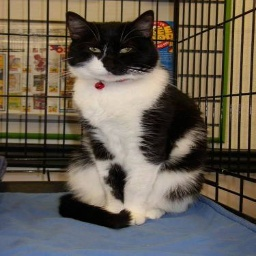cat: (44, 0, 218, 228)
